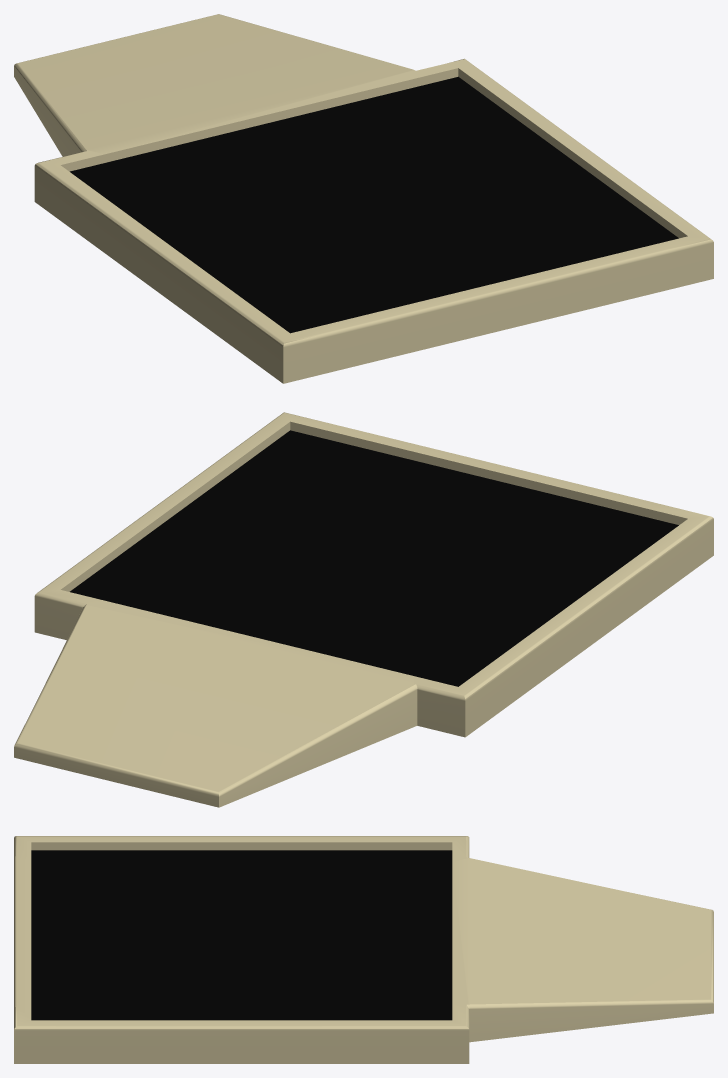
Rendered from KeyPad.fbx.
The picture shows the model from 3 angles, top to bottom: view 1: azimuth 30°, elevation 25°; view 2: azimuth 150°, elevation 25°; view 3: azimuth 270°, elevation 25°; orthographic projection. The views are drawn at different scales.
Visible parts, largest first — view 1: pCube1; view 2: pCube1; view 3: pCube1.
Part boxes in pixels (x1,y1,x2,y2): pCube1: [14, 14, 713, 383]; pCube1: [14, 412, 713, 807]; pCube1: [14, 836, 713, 1063].
Size of the model in its own units: 4.01 by 0.3531 by 6.16.
